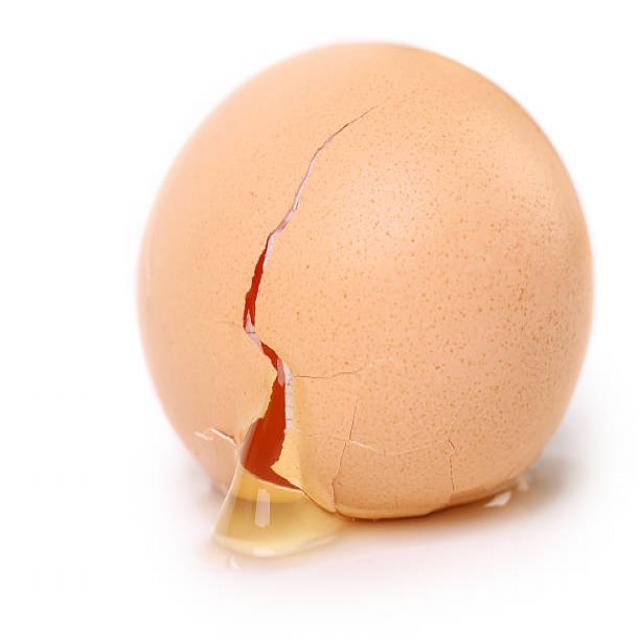biodegradable: (131, 22, 599, 535)
